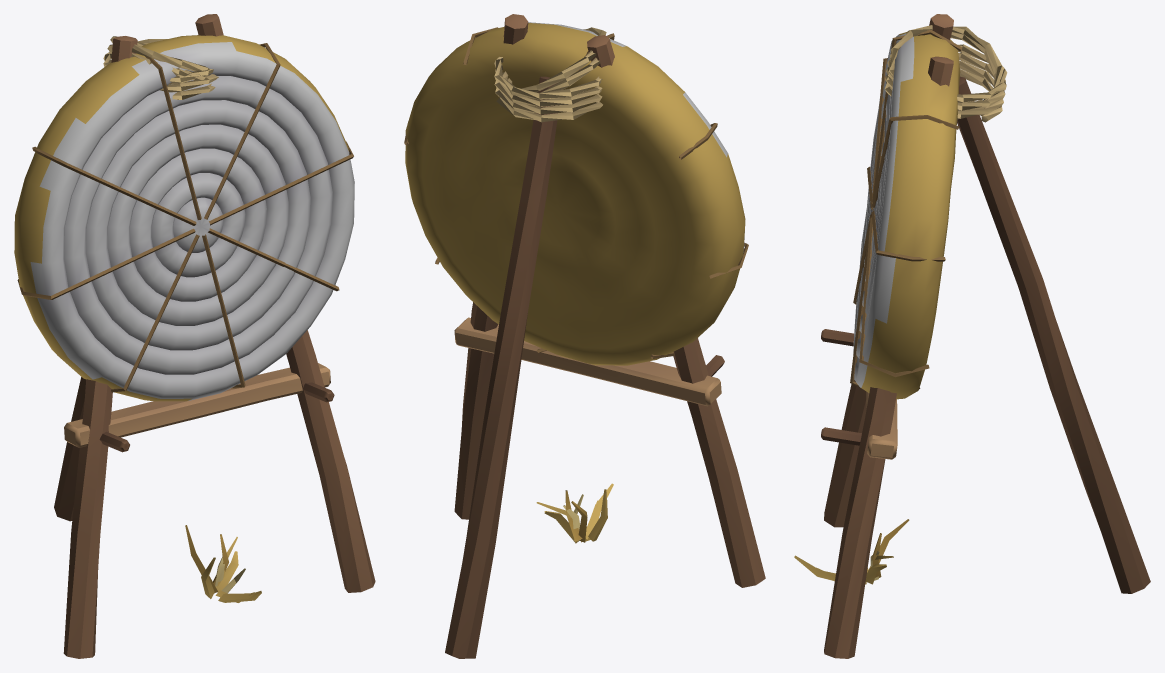
The model's file is pr_strawtarget.glb.
The picture shows the model from 3 angles, left to right: view 1: azimuth 30°, elevation 25°; view 2: azimuth 150°, elevation 25°; view 3: azimuth 270°, elevation 25°; orthographic projection.
Parts seen in each view (by area): view 1: PR_strawtarget__body; view 2: PR_strawtarget__body; view 3: PR_strawtarget__body.
Part boxes in pixels (x1,y1,x2,y2): PR_strawtarget__body: (14, 14, 375, 658); PR_strawtarget__body: (404, 14, 765, 658); PR_strawtarget__body: (794, 14, 1150, 658).
Size of the model in its own units: 1.29 by 2.1 by 1.23.
